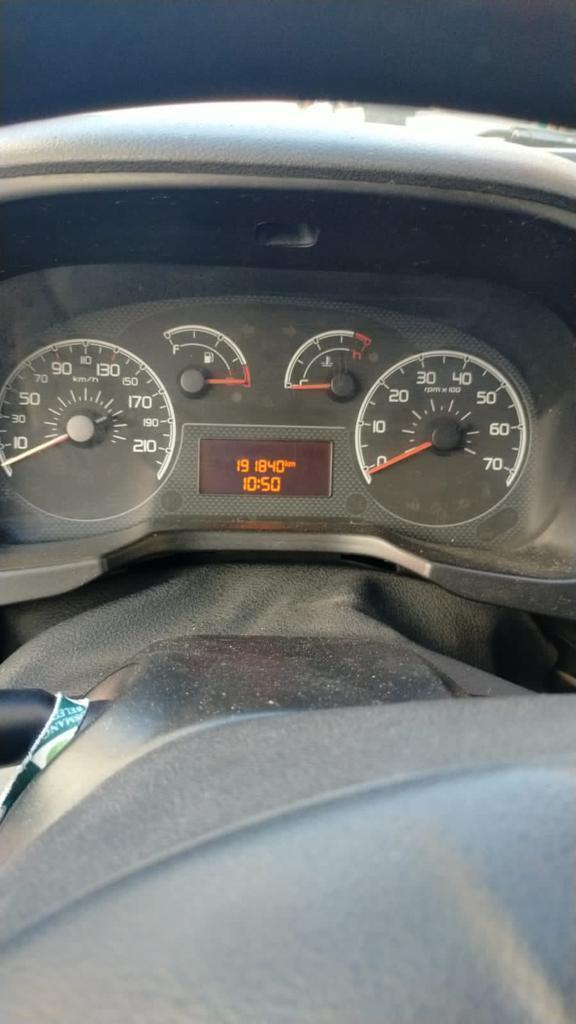0: (270, 476, 280, 492), (247, 476, 256, 491), (275, 459, 284, 473)
1: (242, 476, 246, 490), (236, 459, 240, 472), (254, 460, 258, 472)
4: (267, 459, 275, 472)
5: (260, 476, 270, 491)
8: (258, 459, 266, 472)
9: (240, 459, 249, 472)
X: (289, 460, 296, 467), (256, 478, 260, 489), (284, 459, 288, 467)
odometer: (196, 437, 333, 498)
